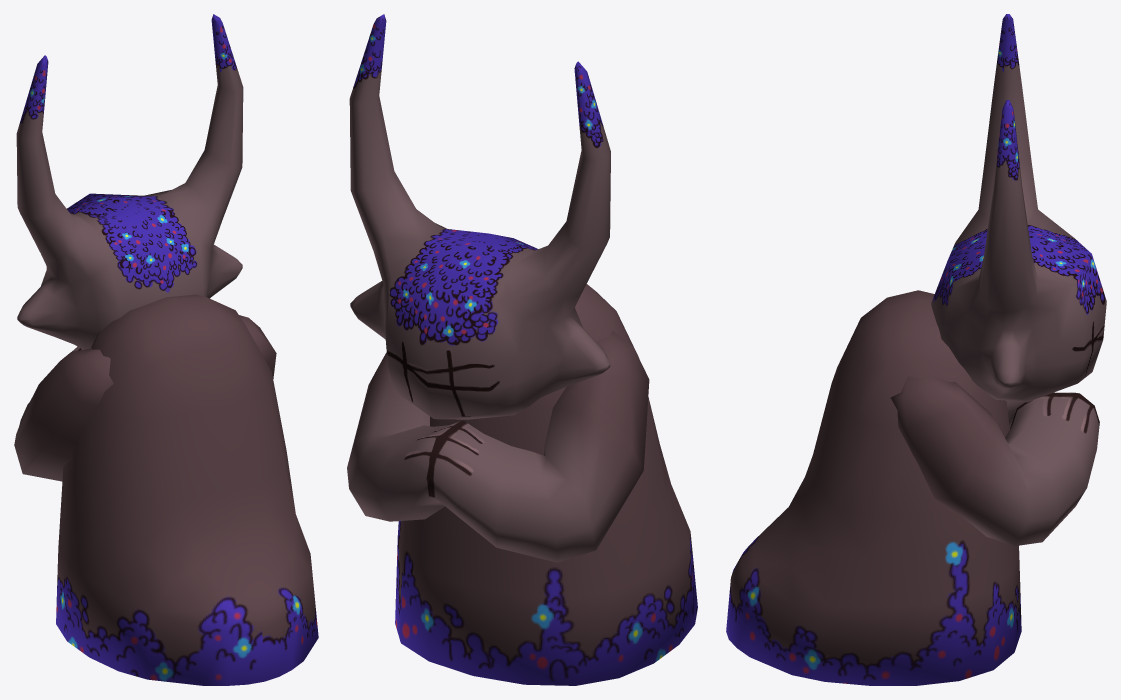
Rendered from lvl3_statue.fbx.
3 renders of one model, left to right at view 1: azimuth 30°, elevation 25°; view 2: azimuth 150°, elevation 25°; view 3: azimuth 270°, elevation 25°, orthographic. The views are drawn at different scales.
Parts seen in each view (by area): view 1: statue; view 2: statue; view 3: statue.
Boxes of the visible parts, x1,y1,x2,y2 form: statue: (14,14,318,685); statue: (347,14,697,685); statue: (726,14,1106,685).
Size of the model in its own units: 52.63 by 120 by 72.34.
